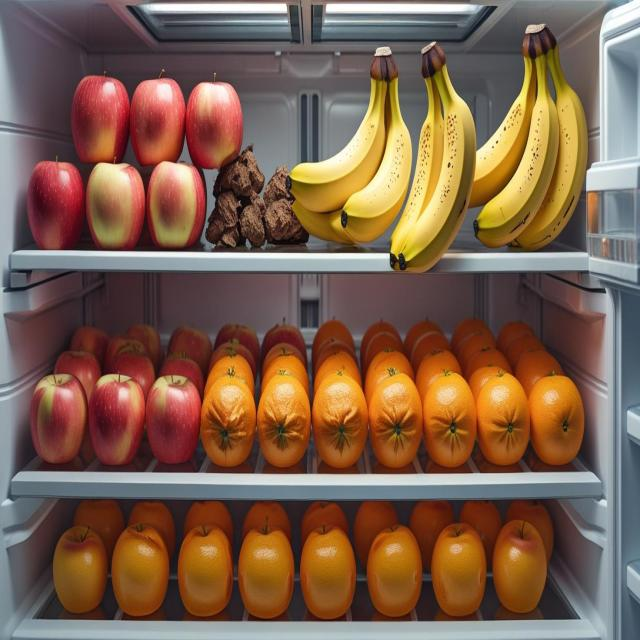apple: (89, 375, 146, 465), (31, 374, 87, 463), (146, 165, 204, 247), (28, 162, 80, 248), (87, 163, 139, 247), (130, 78, 180, 165), (73, 77, 124, 162), (149, 380, 200, 463), (192, 83, 241, 165)
banana: (473, 28, 587, 249), (290, 48, 411, 242), (390, 43, 477, 272)
orange: (110, 523, 169, 615), (421, 369, 476, 467), (313, 370, 368, 467), (300, 526, 356, 619), (431, 524, 487, 616), (369, 361, 417, 467), (367, 525, 422, 617), (200, 376, 256, 466), (178, 525, 233, 616), (477, 371, 530, 465), (493, 520, 547, 611), (530, 375, 584, 465), (239, 530, 294, 618), (259, 371, 309, 465), (53, 526, 104, 612)
